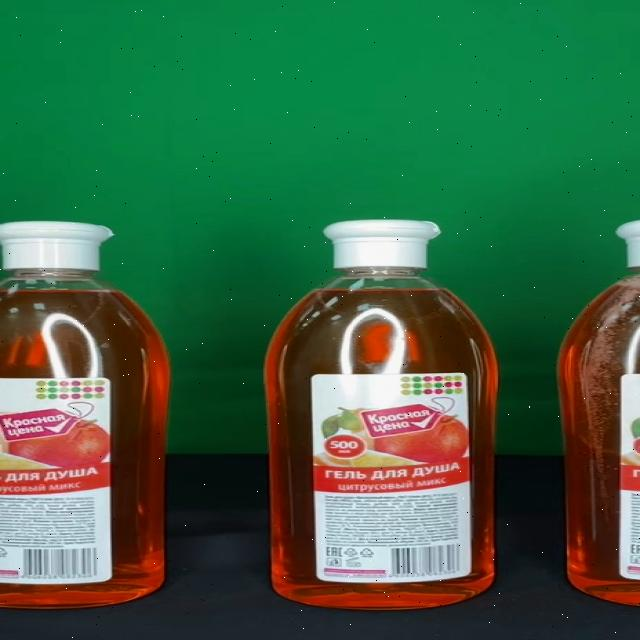Bottle: (262, 220, 500, 610)
Cap: (324, 221, 444, 270)
